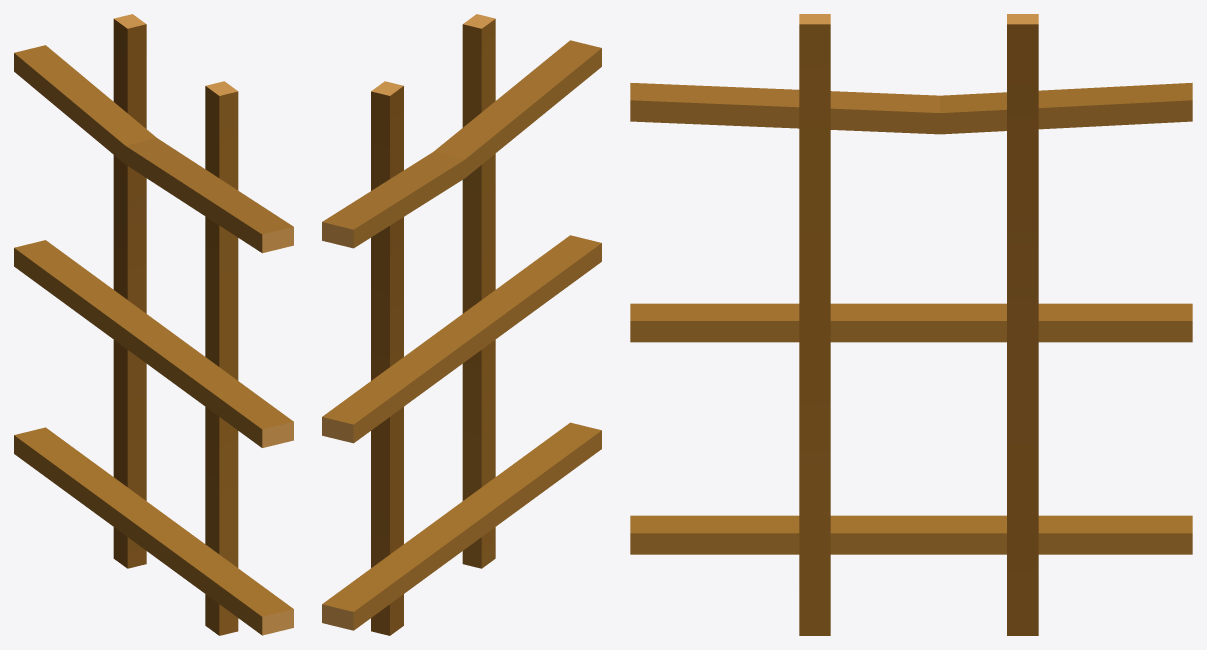
Rendered from WoodFrame_1_1.fbx.
3 renders of one model, left to right at view 1: azimuth 30°, elevation 25°; view 2: azimuth 150°, elevation 25°; view 3: azimuth 270°, elevation 25°, orthographic. The views are drawn at different scales.
Parts seen in each view (by area): view 1: WoodFrame_1_1; view 2: WoodFrame_1_1; view 3: WoodFrame_1_1.
Part boxes in pixels (<box>): WoodFrame_1_1: <box>14,14,293,635</box>; WoodFrame_1_1: <box>322,14,601,635</box>; WoodFrame_1_1: <box>630,14,1192,635</box>.
Bounding box in the file's own units: 23.57 × 240 × 200.
